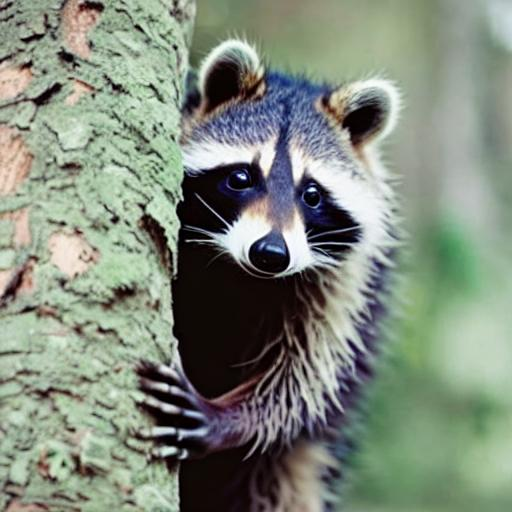raccoon: (183, 26, 413, 512)
